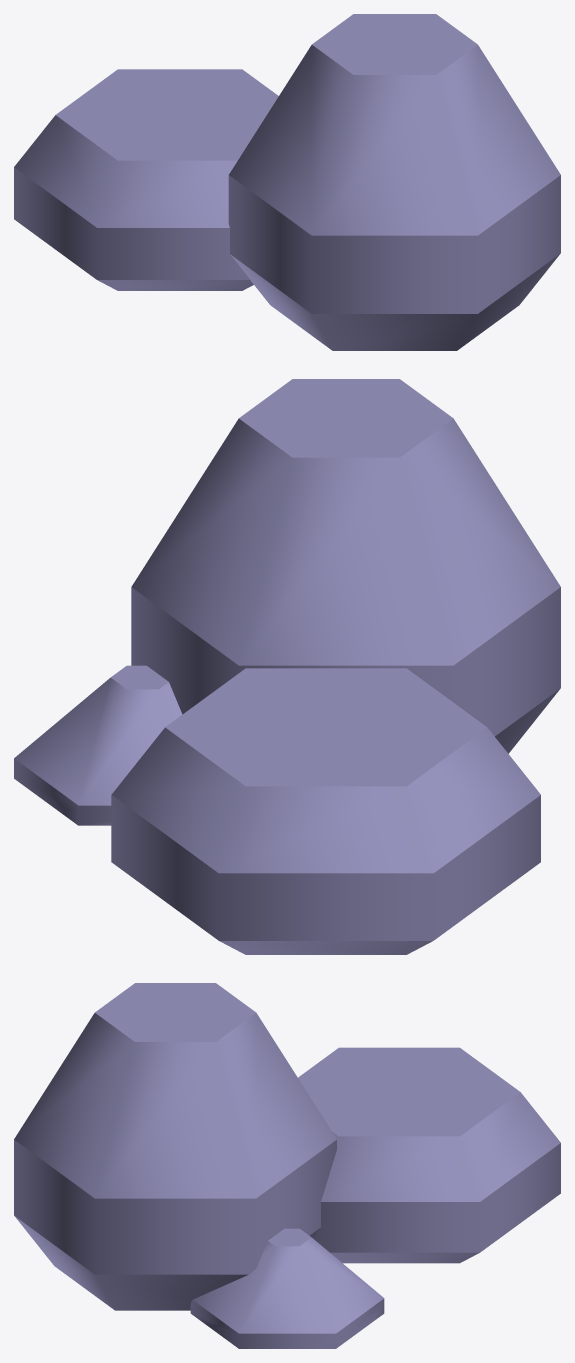
Rendered from IronOre.obj.
3 renders of one model, top to bottom at view 1: azimuth 30°, elevation 25°; view 2: azimuth 150°, elevation 25°; view 3: azimuth 270°, elevation 25°, orthographic. The views are drawn at different scales.
Visible parts, largest first — view 1: mergedBlocks; view 2: mergedBlocks; view 3: mergedBlocks.
Part boxes in pixels (x1,y1,x2,y2): mergedBlocks: (14, 14, 560, 350); mergedBlocks: (14, 379, 560, 954); mergedBlocks: (14, 983, 560, 1348).
Size of the model in its own units: 0.8 by 0.5 by 0.9774.
Materials: 1 (1 with a texture image).
